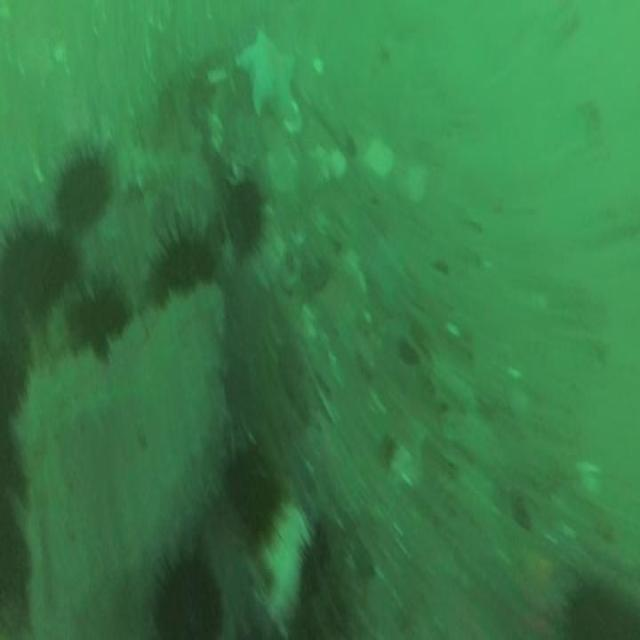echinus: (153, 556, 223, 640), (3, 231, 73, 313), (225, 455, 277, 537), (151, 235, 214, 302), (71, 282, 125, 350), (54, 158, 108, 226), (0, 316, 28, 404), (228, 183, 260, 250)
starfish: (236, 27, 296, 118)
